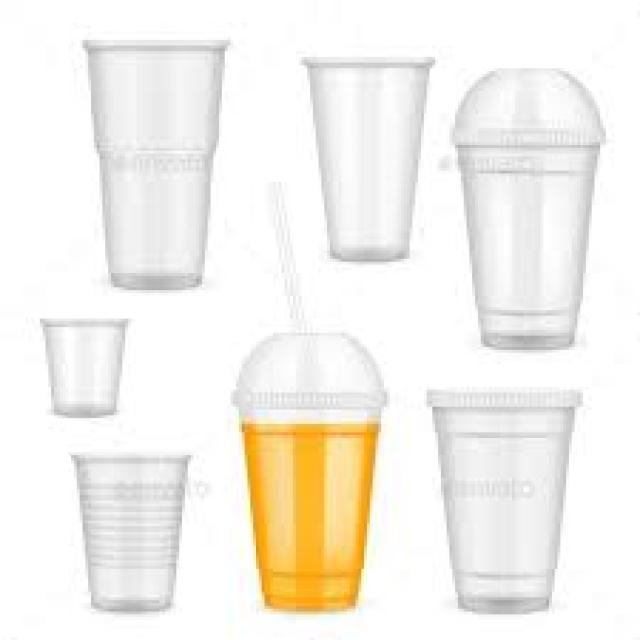cup: (66, 26, 247, 305), (226, 326, 388, 626), (458, 48, 602, 368), (430, 387, 590, 627), (300, 47, 437, 282), (59, 443, 209, 626), (25, 305, 142, 435)
